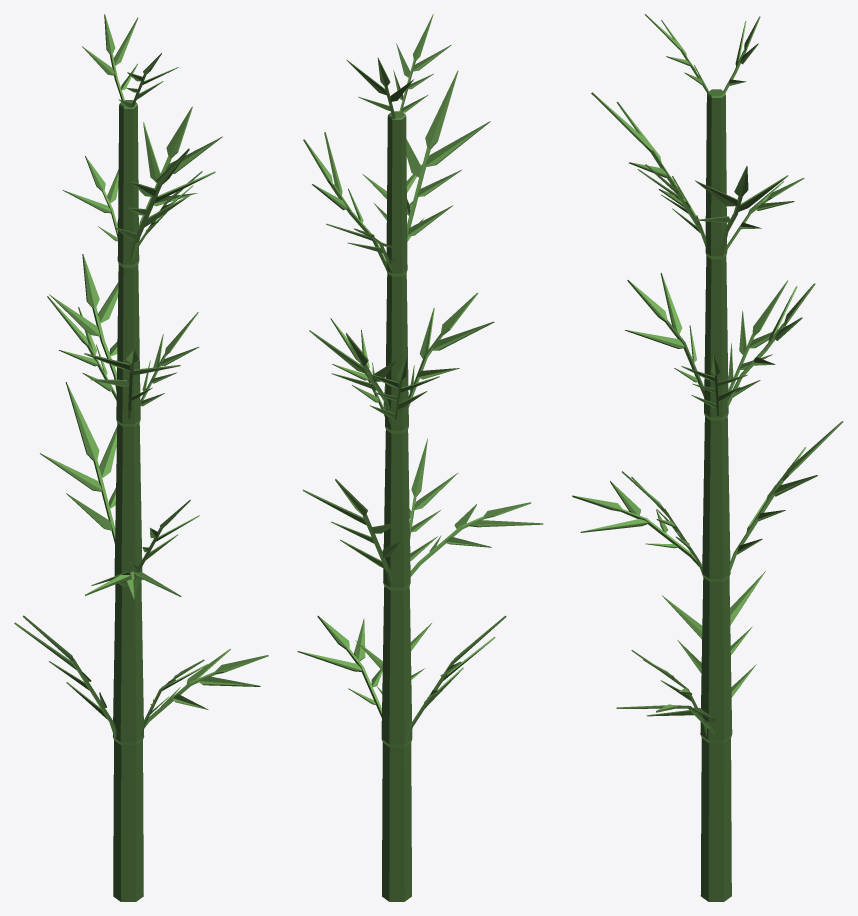
File: taquaraLow.fbx
3 renders of one model, left to right at view 1: azimuth 30°, elevation 25°; view 2: azimuth 150°, elevation 25°; view 3: azimuth 270°, elevation 25°, orthographic. The views are drawn at different scales.
Parts seen in each view (by area): view 1: bambu, cabinho.002, cabinho.000, cabinho.010, folha.002, cabinho.006, cabinho.013, folha.000, cabinho.008, cabinho.012, cabinho.001, folha.004 (+3 smaller); view 2: bambu, cabinho.010, cabinho.002, folha.000, folha.002, folha.001, cabinho.006, cabinho.000, cabinho.007, cabinho.009, cabinho.013, cabinho.012 (+3 smaller); view 3: bambu, folha.000, folha.001, cabinho.002, cabinho.006, cabinho.012, cabinho.010, cabinho.013, cabinho.000, folha.002, cabinho.001, folha.004 (+3 smaller).
Part boxes in pixels (x1,y1,x2,y2): bambu: (113, 100, 144, 901); cabinho.002: (40, 382, 116, 543); cabinho.000: (49, 254, 118, 388); cabinho.010: (115, 148, 215, 261); folha.002: (144, 648, 268, 727); cabinho.006: (139, 106, 222, 241); cabinho.013: (14, 615, 116, 738); folha.000: (84, 348, 180, 418); cabinho.008: (81, 14, 138, 100); cabinho.012: (47, 296, 116, 400); cabinho.001: (140, 312, 198, 406); folha.004: (62, 156, 118, 241); bambu: (381, 111, 412, 901); cabinho.010: (406, 70, 490, 238); cabinho.002: (303, 479, 400, 586); folha.000: (408, 292, 494, 407); folha.002: (297, 616, 382, 717); folha.001: (410, 502, 543, 576); cabinho.006: (303, 132, 387, 272); cabinho.000: (309, 330, 396, 424); cabinho.007: (409, 438, 457, 560); cabinho.009: (393, 14, 451, 112); cabinho.013: (406, 615, 506, 742); cabinho.012: (367, 355, 439, 421); bambu: (700, 89, 732, 901); folha.000: (625, 273, 704, 397); folha.001: (572, 481, 702, 566); cabinho.002: (729, 421, 843, 573); cabinho.006: (695, 166, 788, 257); cabinho.012: (728, 280, 787, 397); cabinho.010: (591, 92, 706, 247); cabinho.013: (662, 571, 765, 697); cabinho.000: (727, 283, 815, 407); folha.002: (616, 704, 714, 736); cabinho.001: (681, 354, 747, 416); folha.004: (726, 177, 804, 251).
Size of the model in its own units: 268 by 1017 by 284.
